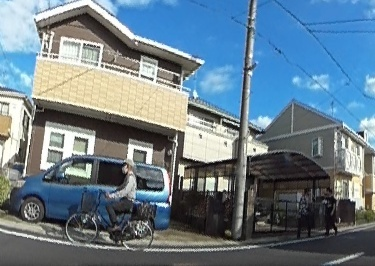person: (107, 160, 137, 230), (296, 186, 313, 237), (323, 188, 340, 235)
